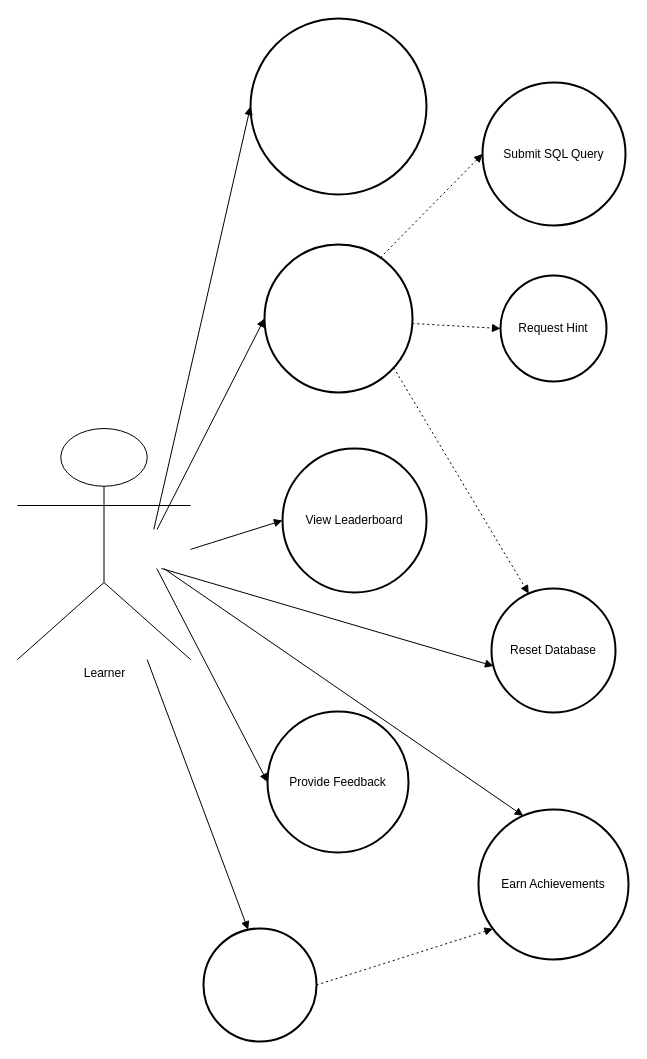
The diagram is 647 pixels wide and 1059 high, and some of its shapes have lost their labels. The centre of each missing label's shape, as x and y in pixels:
Login / Authentication: the point at 338,106
Play SQL Scenarios: the point at 338,318
View Progress: the point at 259,984
